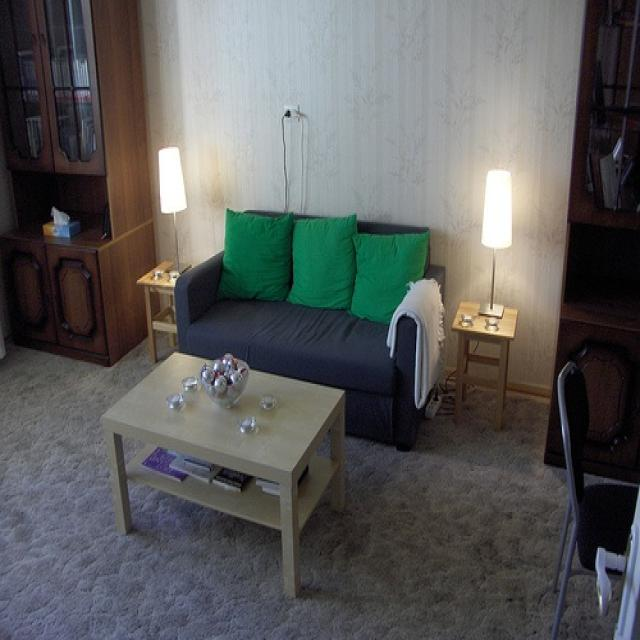chair: (553, 361, 640, 639)
sofa: (174, 206, 448, 450)
